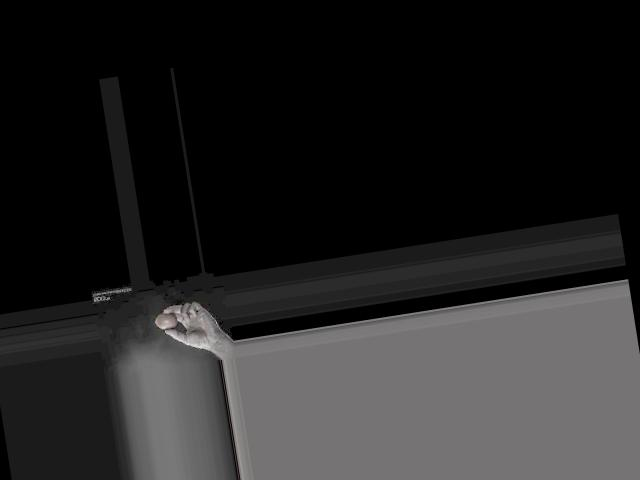egg: (155, 311, 179, 330)
